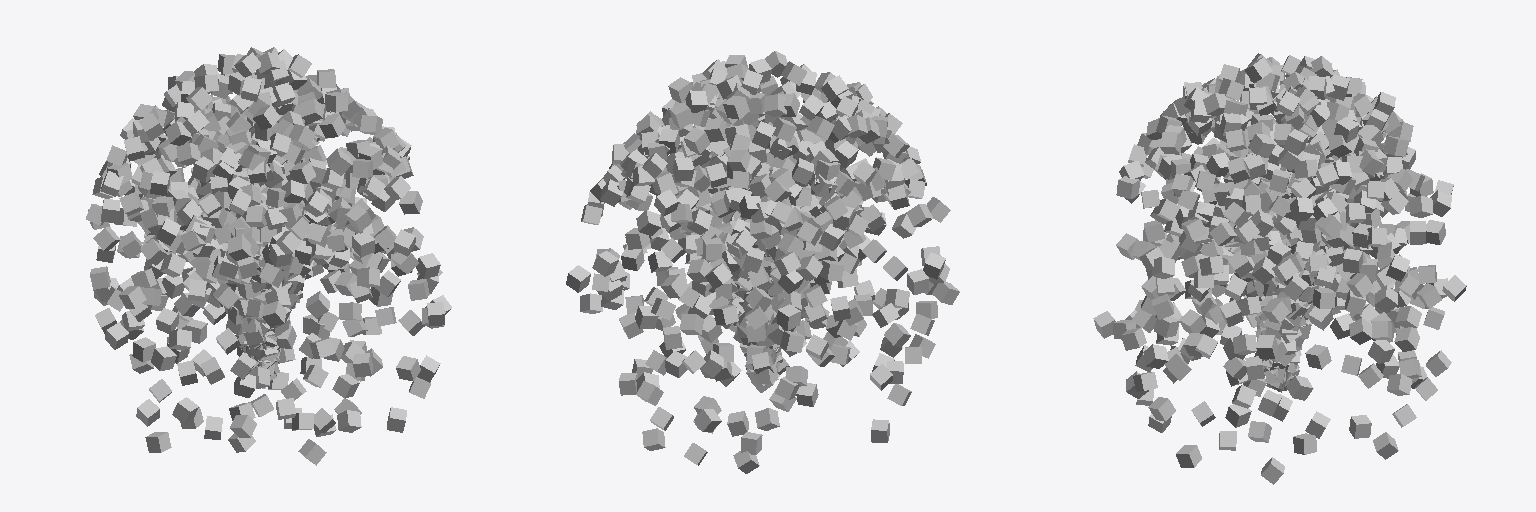
File: cubesplosion.obj
3 renders of one model, left to right at view 1: azimuth 30°, elevation 25°; view 2: azimuth 150°, elevation 25°; view 3: azimuth 270°, elevation 25°, orthographic.
Bounding box in the file's own units: 6.74 × 7.63 × 6.66.